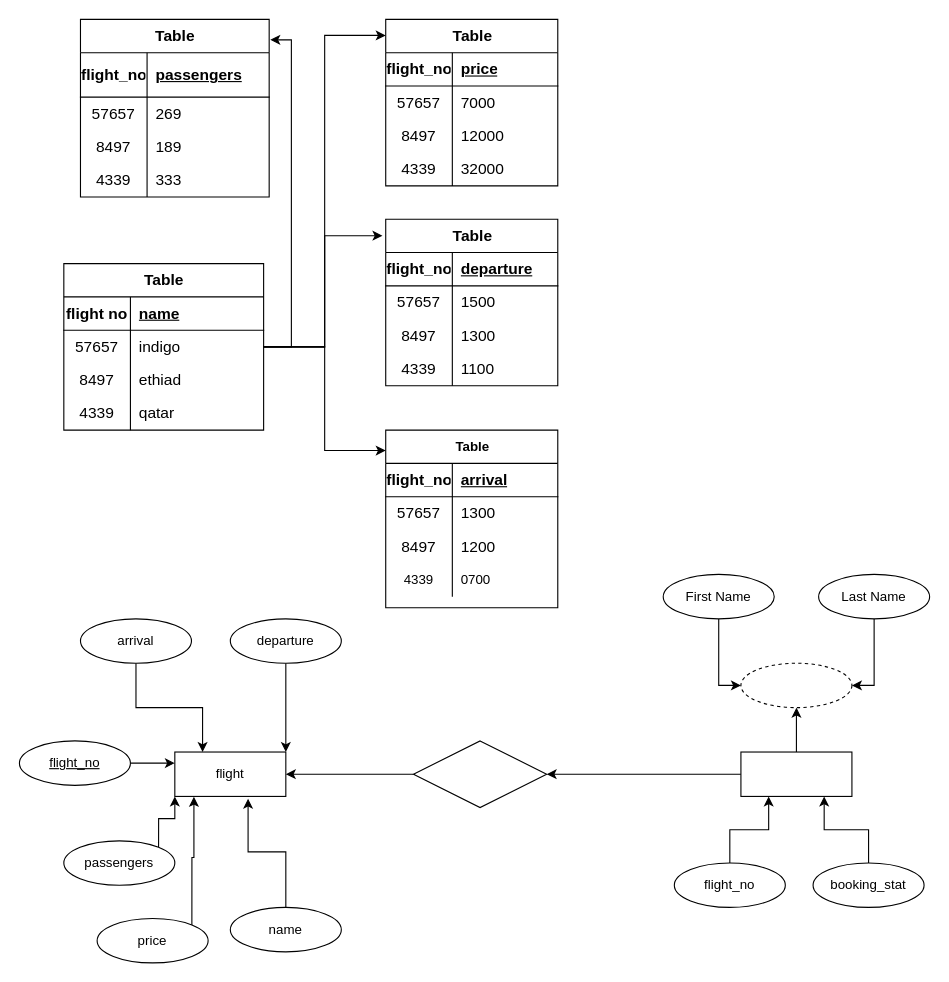
Image size: 949x982. Some labels were removed from this diagram. Here are the shapes that lost their labels. From the top down, the box of each, then its label:
(740, 662, 852, 708): Full Name
(412, 740, 547, 808): Booking
(740, 751, 852, 796): customer
